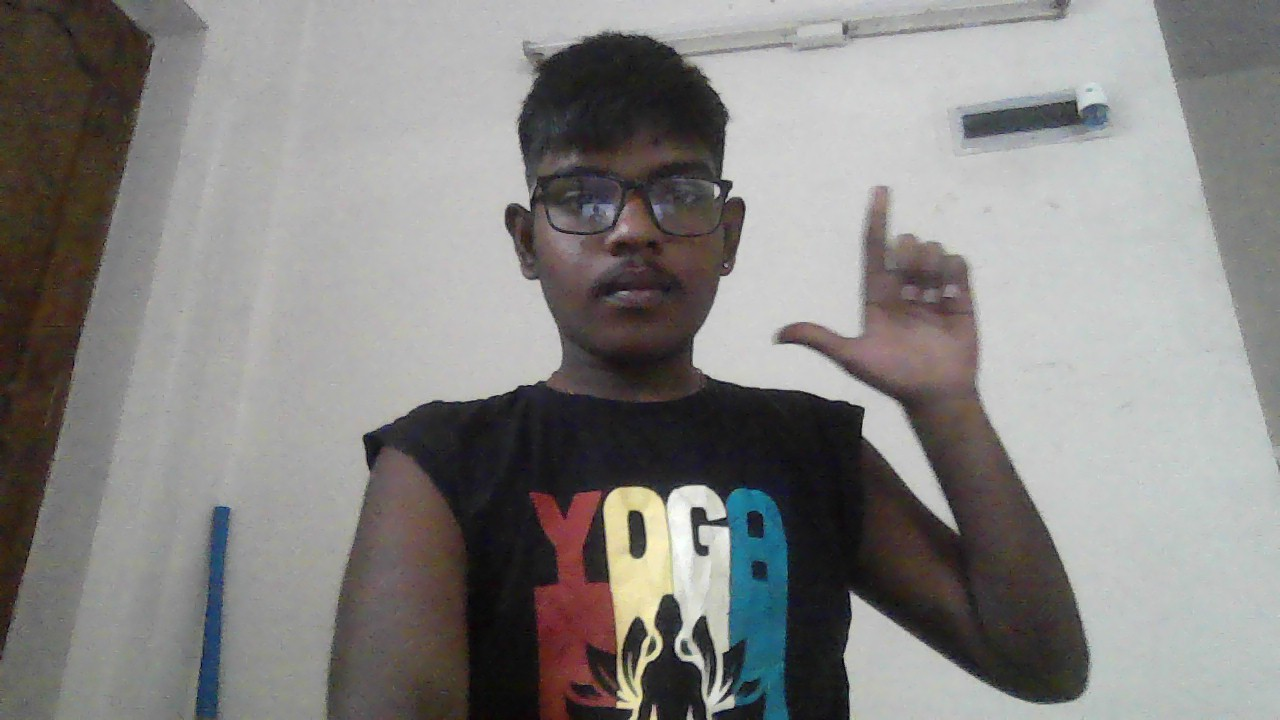L: (771, 183, 979, 396)
